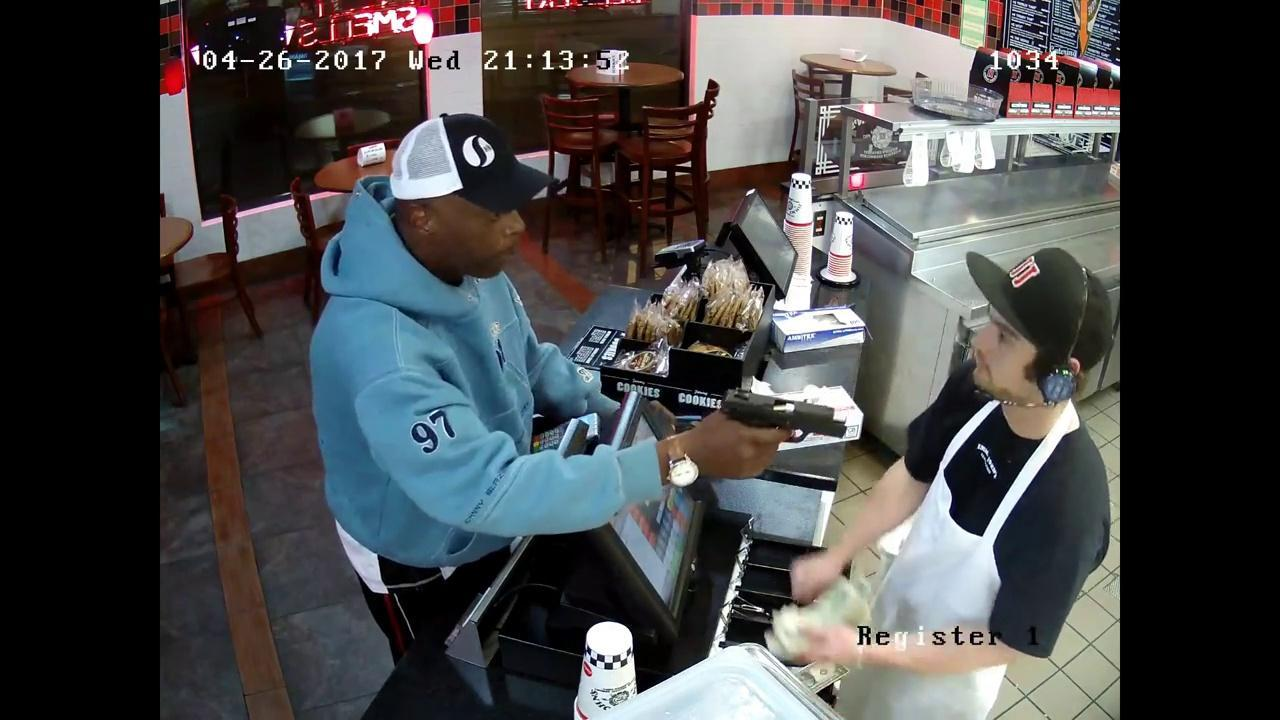Guns: (695, 372, 864, 462)
